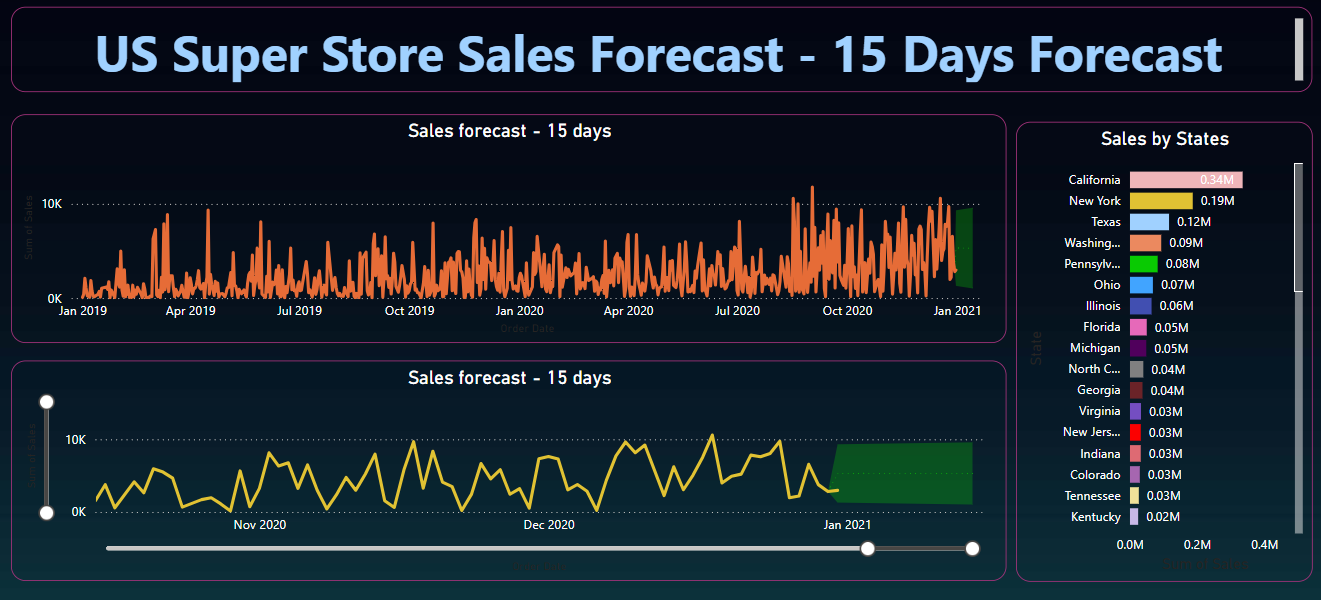

What the dashboard file says about the page in this screenshot:
{"tool":"powerbi","page":{"name":"Page 2","canvas":[1280,720],"ordinal":1},"visuals":[{"type":"lineChart","title":"Sales forecast - 15 days","fields":{"Y":["Sum(SuperStore_Sales_Dataset.Sales)"],"Category":["SuperStore_Sales_Dataset.Order Date"]},"box":[14,112,961,221],"z":0},{"type":"lineChart","title":"Sales forecast - 15 days","fields":{"Y":["Sum(SuperStore_Sales_Dataset.Sales)"],"Category":["SuperStore_Sales_Dataset.Order Date"]},"box":[14,350,961,213],"z":1},{"type":"barChart","title":"Sales by States","fields":{"Category":["SuperStore_Sales_Dataset.State"],"Y":["Sum(SuperStore_Sales_Dataset.Sales)"]},"box":[984,119,286,444],"z":2},{"type":"textbox","box":[14,8,1256,82],"z":3}]}

Visuals, with their boxes on the page's 1280x720 design canvas (x1, y1, x2, y2). These are canvas units, not pixel positions in the 1321x600 screenshot, which may show the page scaled, cropped or inside an application window:
"Sales forecast - 15 days" lineChart: 14 112 975 333
"Sales forecast - 15 days" lineChart: 14 350 975 563
"Sales by States" barChart: 984 119 1270 563
textbox: 14 8 1270 90
